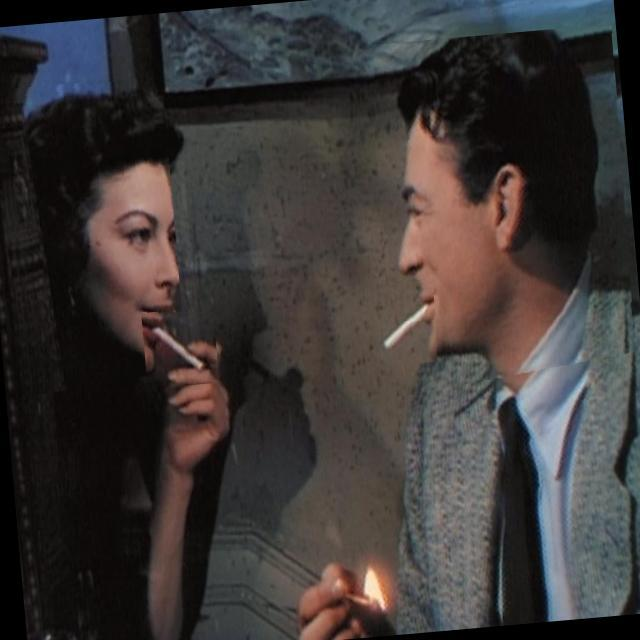cigarette: (358, 276, 440, 367), (142, 306, 220, 388)
